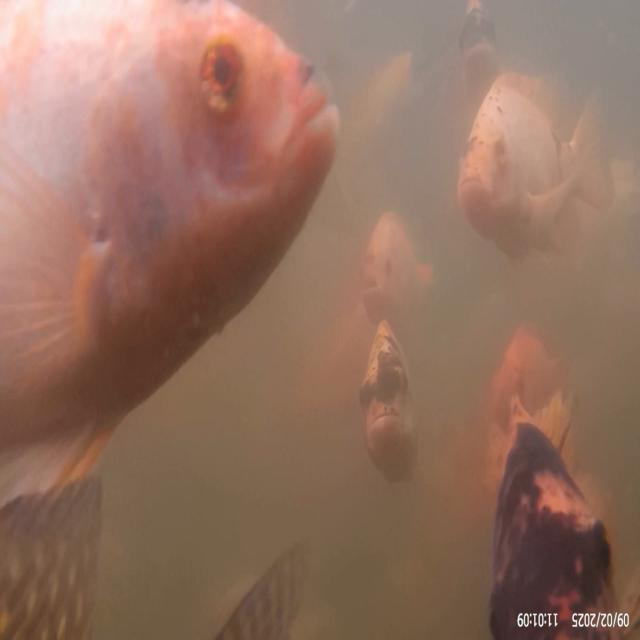ikan: (11, 15, 337, 419), (458, 60, 602, 268), (483, 426, 613, 620), (356, 322, 428, 468), (362, 178, 428, 321)
